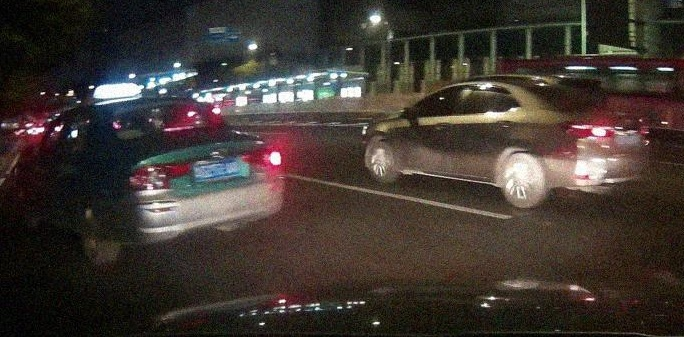L_light: (127, 161, 190, 191), (558, 120, 615, 138)
R_light: (241, 144, 283, 171), (639, 123, 649, 135)
T_light: (162, 125, 195, 132), (580, 79, 592, 82)
night-no: (526, 75, 650, 201)
night-right: (93, 95, 286, 256)
